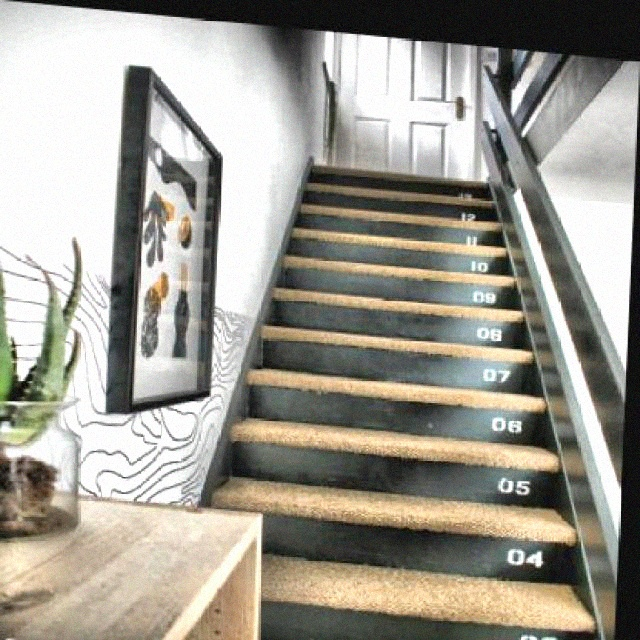stair: (238, 129, 632, 625)
